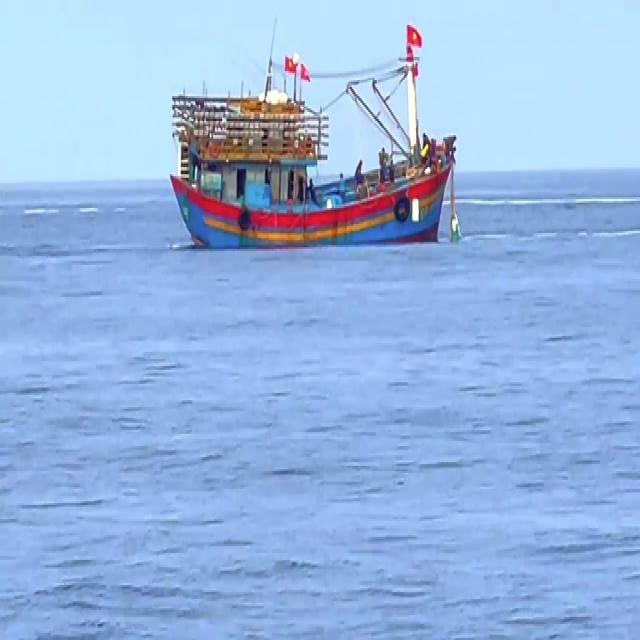Ship: (166, 41, 462, 257)
